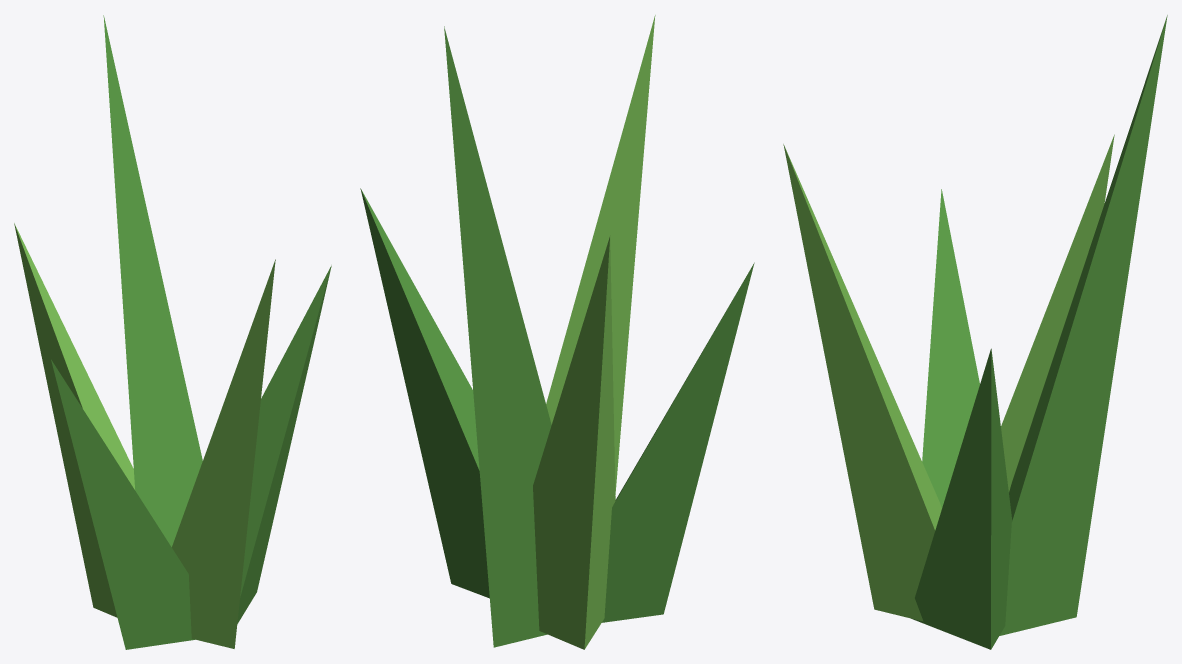
The model's file is grass.fbx.
3 views of the same model, side by side, from view 1: azimuth 30°, elevation 25°; view 2: azimuth 150°, elevation 25°; view 3: azimuth 270°, elevation 25° (orthographic). The views are drawn at different scales.
Parts seen in each view (by area): view 1: Grass; view 2: Grass; view 3: Grass.
Boxes of the visible parts, x1,y1,x2,y2 form: Grass: [14, 15, 331, 649]; Grass: [360, 15, 754, 649]; Grass: [783, 15, 1167, 649].
Size of the model in its own units: 146 by 250 by 145.
